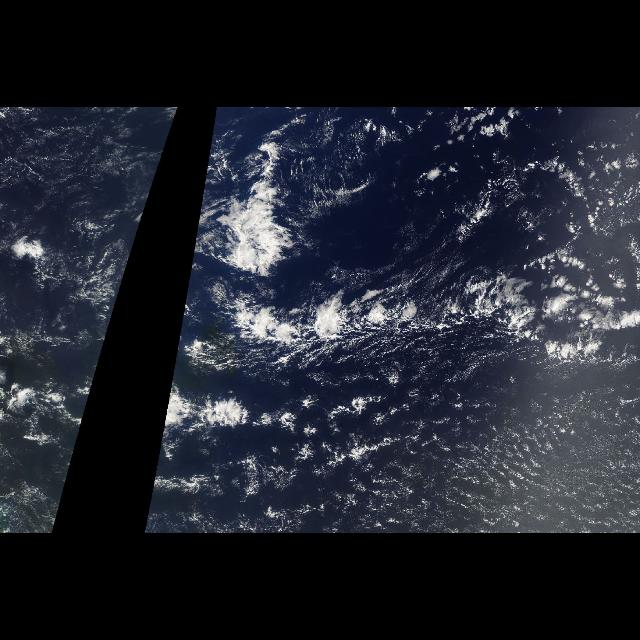Fish: (195, 112, 640, 378)
Gravel: (240, 382, 636, 534), (351, 109, 639, 291)
Sugar: (375, 382, 639, 530), (0, 107, 160, 237)
